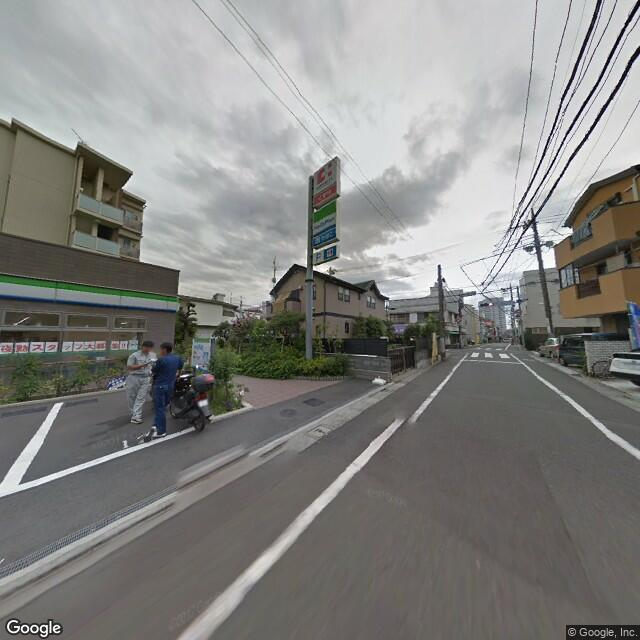family_mart: (1, 273, 178, 315), (309, 197, 339, 245)
